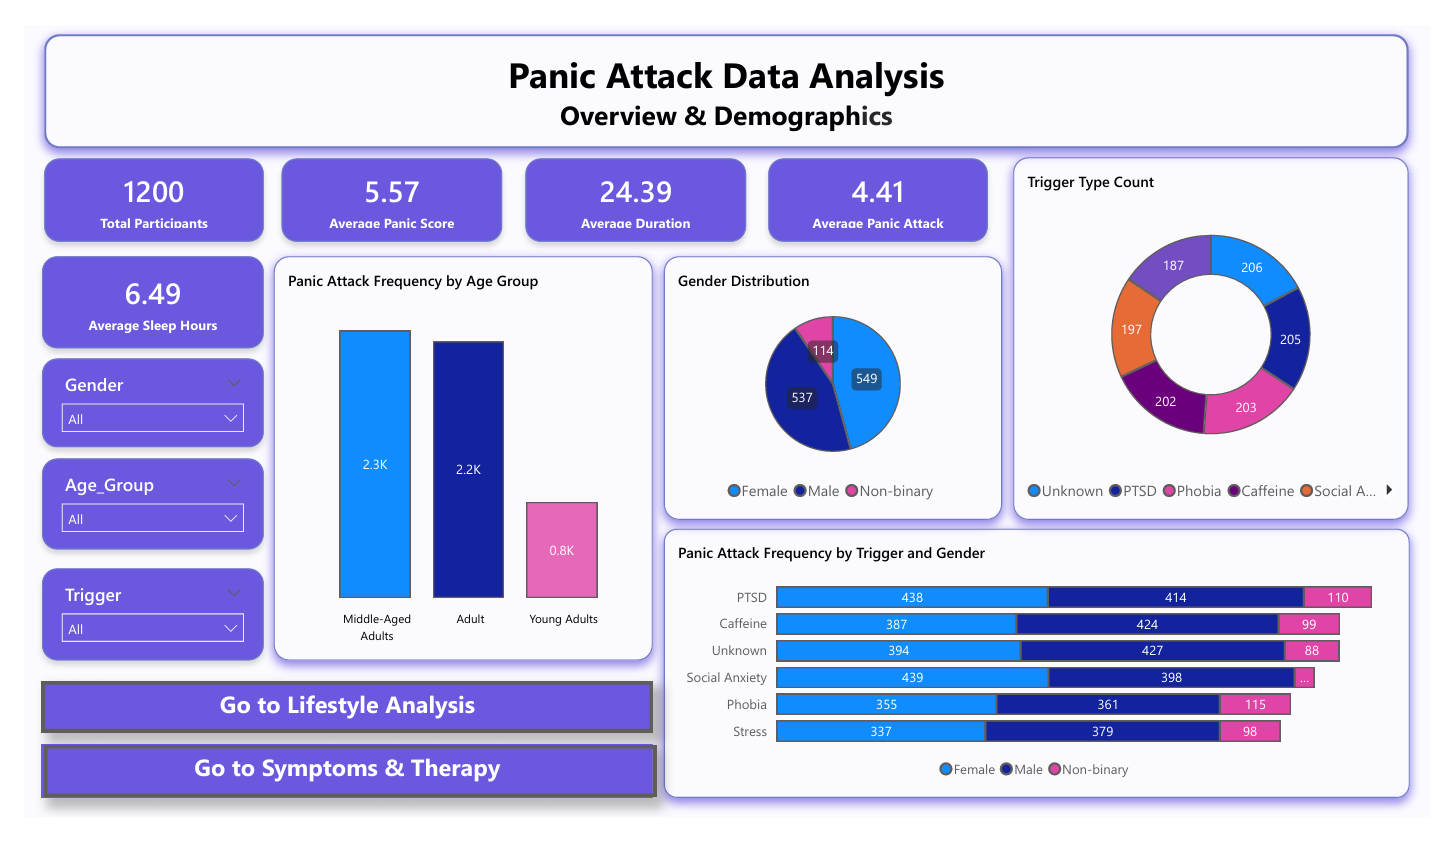

What the dashboard file says about the page in this screenshot:
{"tool":"powerbi","page":{"name":"Overview & Demographics","canvas":[1280,720],"ordinal":0},"visuals":[{"type":"card","fields":{"Values":["CountNonNull(panic_attack_dataset.ID)"]},"box":[17.5,120.6,200.4,76.8],"z":0},{"type":"card","fields":{"Values":["Avg(panic_attack_dataset.Panic_Score)"]},"box":[234.4,120.6,200.4,76.8],"z":1000},{"type":"card","fields":{"Values":["Avg(panic_attack_dataset.Duration_Minutes)"]},"box":[456.2,120.6,200.4,76.8],"z":2000},{"type":"pieChart","title":"Gender Distribution","fields":{"Category":["panic_attack_dataset.Gender"],"Y":["CountNonNull(panic_attack_dataset.ID)"]},"box":[582.2,210,307.8,240],"z":3000},{"type":"clusteredColumnChart","fields":{"Y":["Sum(panic_attack_dataset.Panic_Attack_Frequency)"],"Category":["panic_attack_dataset.Age_Group"]},"box":[226.7,210,345.6,367.8],"z":4000},{"type":"slicer","fields":{"Values":["panic_attack_dataset.Trigger"]},"box":[15.6,494.4,202.2,83.3],"z":5000},{"type":"donutChart","title":"Trigger Type Count","fields":{"Y":["CountNonNull(panic_attack_dataset.ID)"],"Category":["panic_attack_dataset.Trigger"]},"box":[900,120,360,330],"z":6000},{"type":"slicer","title":"Gender","fields":{"Values":["panic_attack_dataset.Gender"]},"box":[15.6,303.3,202.2,81.1],"z":7000},{"type":"slicer","fields":{"Values":["panic_attack_dataset.Age_Group"]},"box":[15.6,394.4,202.2,82.2],"z":8000},{"type":"barChart","fields":{"Category":["panic_attack_dataset.Trigger"],"Y":["Sum(panic_attack_dataset.Panic_Attack_Frequency)"],"Series":["panic_attack_dataset.Gender"]},"box":[582.2,457.8,678.9,245.6],"z":9000},{"type":"textbox","box":[15.6,596.7,556.7,46.7],"z":10000},{"type":"textbox","box":[15.6,654.4,556.7,48.9],"z":11000},{"type":"card","fields":{"Values":["Avg(panic_attack_dataset.Sleep_Hours)"]},"box":[15.6,210,202.2,84.4],"z":12000},{"type":"card","fields":{"Values":["Avg(panic_attack_dataset.Panic_Attack_Frequency)"]},"box":[677,120.6,200.4,76.8],"z":13000},{"type":"textbox","box":[18.2,8.2,1241.8,103.6],"z":14000},{"type":"actionButton","title":"Go to Lifestyle Analysis","box":[15.6,596.7,556.7,46.7],"z":15000},{"type":"actionButton","title":"Go to Lifestyle Analysis","box":[18.2,654.5,556.4,47.3],"z":16000}]}

Visuals, with their boxes in screenshot pixels (x1, y1, x2, y2), scaled from the page's 1280x720 canvas onto the 1455x842 screenshot:
card - CountNonNull(panic_attack_dataset.ID): {"left": 20, "top": 141, "right": 248, "bottom": 231}
card - Avg(panic_attack_dataset.Panic_Score): {"left": 266, "top": 141, "right": 494, "bottom": 231}
card - Avg(panic_attack_dataset.Duration_Minutes): {"left": 519, "top": 141, "right": 746, "bottom": 231}
"Gender Distribution" pieChart: {"left": 662, "top": 246, "right": 1012, "bottom": 526}
clusteredColumnChart - Sum(panic_attack_dataset.Panic_Attack_Frequency) x panic_attack_dataset.Age_Group: {"left": 258, "top": 246, "right": 651, "bottom": 676}
slicer - panic_attack_dataset.Trigger: {"left": 18, "top": 578, "right": 248, "bottom": 676}
"Trigger Type Count" donutChart: {"left": 1023, "top": 140, "right": 1432, "bottom": 526}
"Gender" slicer: {"left": 18, "top": 355, "right": 248, "bottom": 450}
slicer - panic_attack_dataset.Age_Group: {"left": 18, "top": 461, "right": 248, "bottom": 557}
barChart - panic_attack_dataset.Trigger x Sum(panic_attack_dataset.Panic_Attack_Frequency): {"left": 662, "top": 535, "right": 1434, "bottom": 823}
textbox: {"left": 18, "top": 698, "right": 651, "bottom": 752}
textbox: {"left": 18, "top": 765, "right": 651, "bottom": 822}
card - Avg(panic_attack_dataset.Sleep_Hours): {"left": 18, "top": 246, "right": 248, "bottom": 344}
card - Avg(panic_attack_dataset.Panic_Attack_Frequency): {"left": 770, "top": 141, "right": 997, "bottom": 231}
textbox: {"left": 21, "top": 10, "right": 1432, "bottom": 131}
"Go to Lifestyle Analysis" actionButton: {"left": 18, "top": 698, "right": 651, "bottom": 752}
"Go to Lifestyle Analysis" actionButton: {"left": 21, "top": 765, "right": 653, "bottom": 821}
